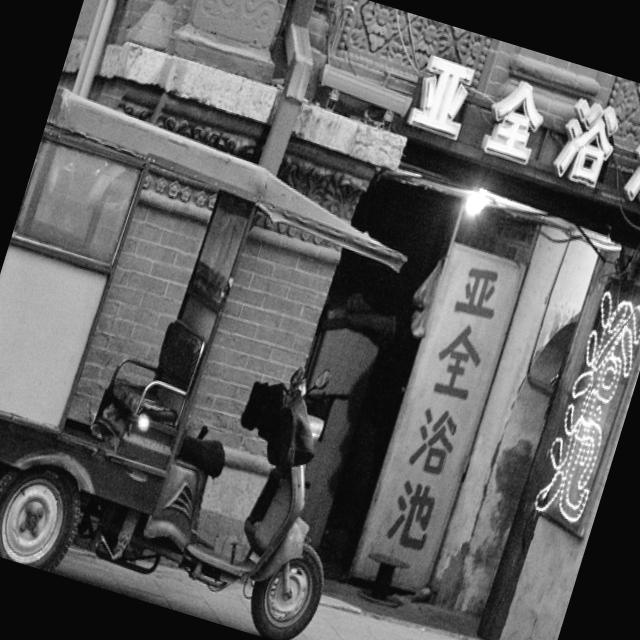Vehicle: (121, 333, 388, 640)
